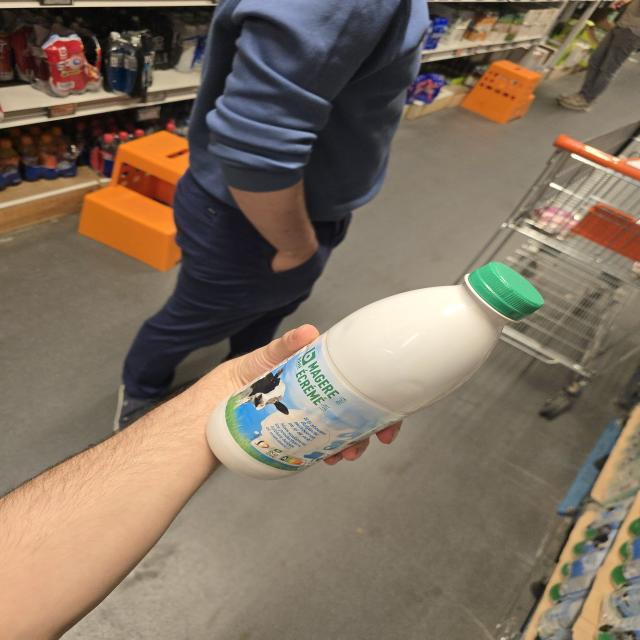Milk: (207, 262, 544, 479)
